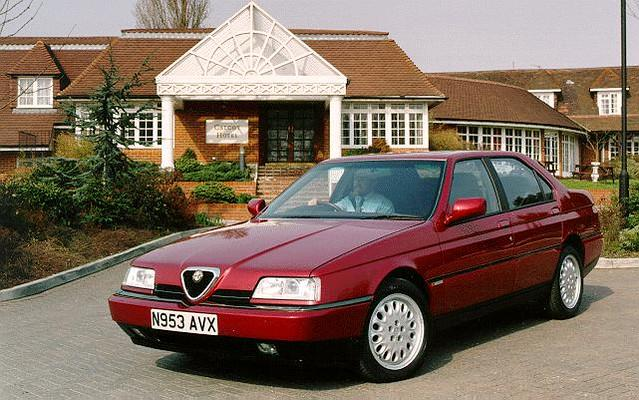windshield: (254, 150, 453, 227)
